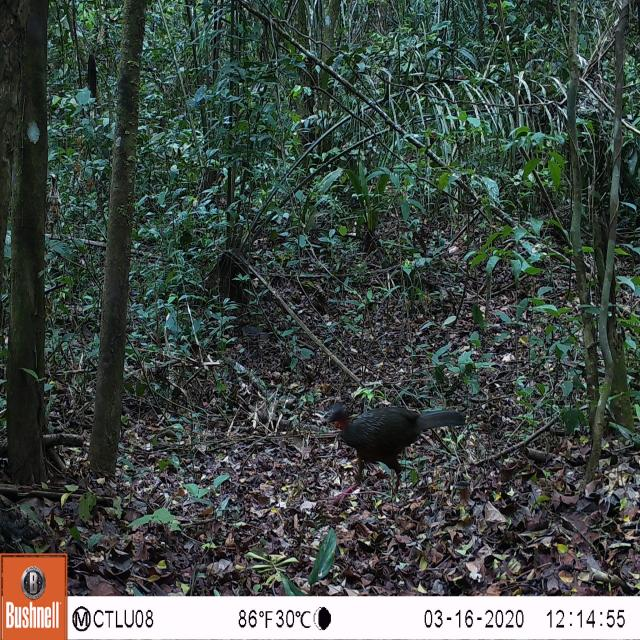Spixs Guan: (324, 398, 474, 501)
